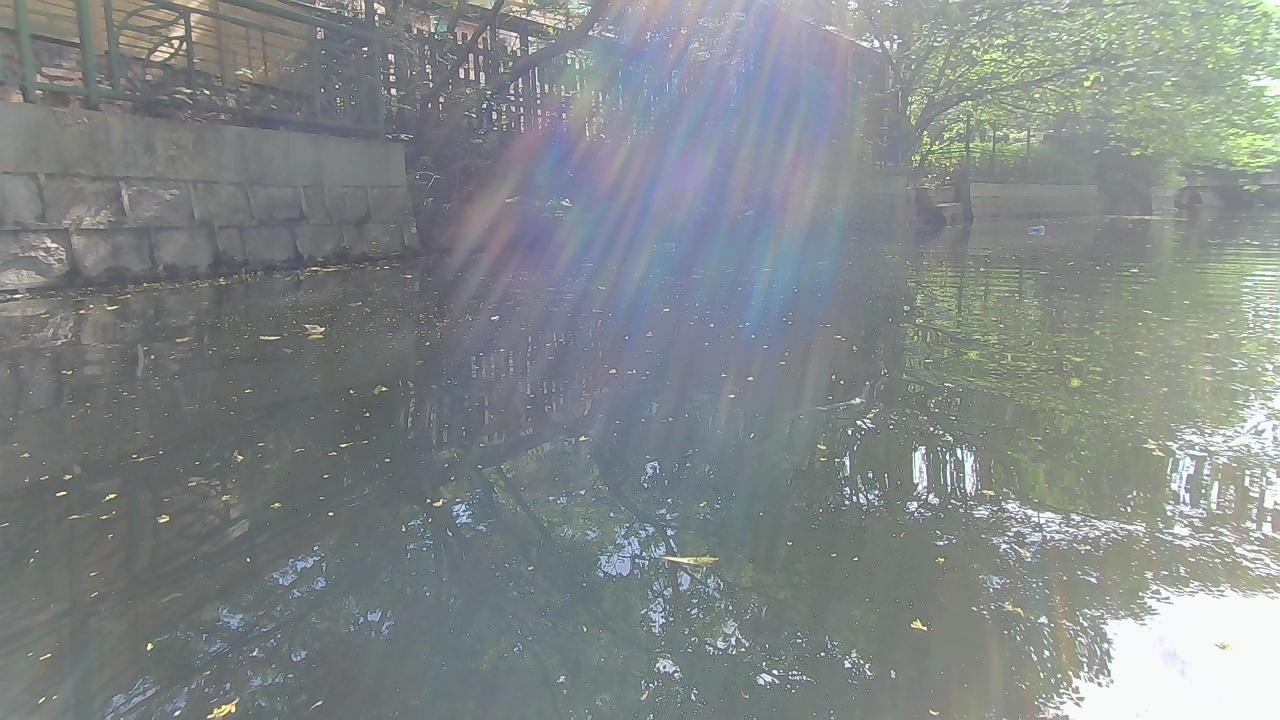bottle: (1026, 225, 1046, 234)
